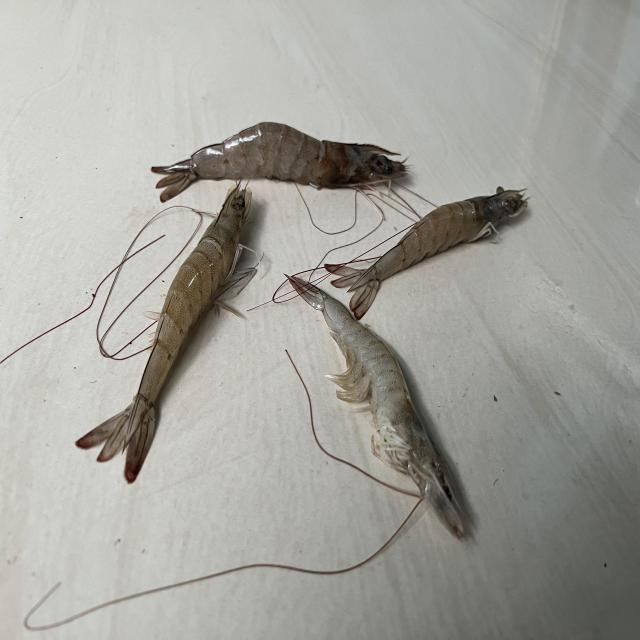shrimp: (76, 182, 251, 483), (288, 276, 464, 539), (326, 186, 528, 319), (151, 121, 407, 201)
